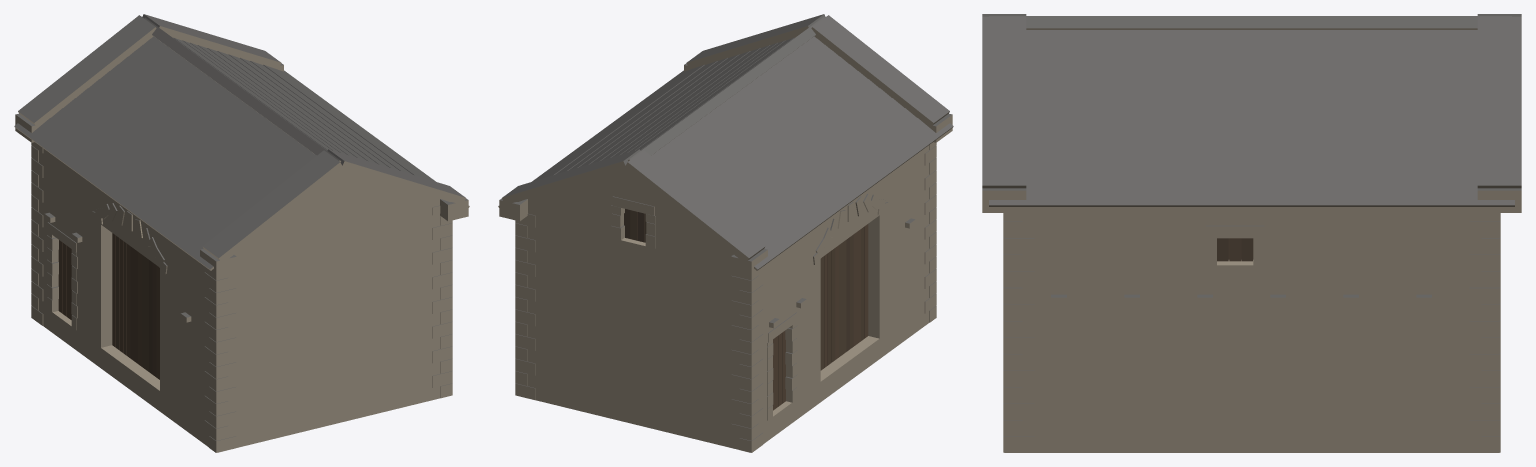
Rendered from context.dales.barn_07.glb.
3 renders of one model, left to right at view 1: azimuth 30°, elevation 25°; view 2: azimuth 150°, elevation 25°; view 3: azimuth 270°, elevation 25°, orthographic. The views are drawn at different scales.
Visible parts, largest first — view 1: main__stone_a98, main__slate_666, main__paint_654, main__paint_554, main__paint_544, main__paint_543; view 2: main__stone_a98, main__slate_666, main__paint_654, main__paint_544, main__paint_554, main__paint_543; view 3: main__stone_a98, main__slate_666, main__paint_543.
Boxes of the visible parts, <box> form: main__stone_a98: <box>14,26,469,452</box>; main__slate_666: <box>14,14,467,440</box>; main__paint_654: <box>58,233,159,379</box>; main__paint_554: <box>116,236,148,371</box>; main__paint_544: <box>130,246,156,376</box>; main__paint_543: <box>149,260,152,374</box>; main__stone_a98: <box>498,26,953,452</box>; main__slate_666: <box>500,14,953,440</box>; main__paint_654: <box>773,224,868,410</box>; main__paint_544: <box>827,226,864,365</box>; main__paint_554: <box>630,210,846,370</box>; main__paint_543: <box>624,209,849,351</box>; main__stone_a98: <box>982,28,1521,452</box>; main__slate_666: <box>982,14,1521,436</box>; main__paint_543: <box>1217,238,1252,261</box>.
Bounding box in the file's own units: 6.61 × 6.53 × 8.86.
